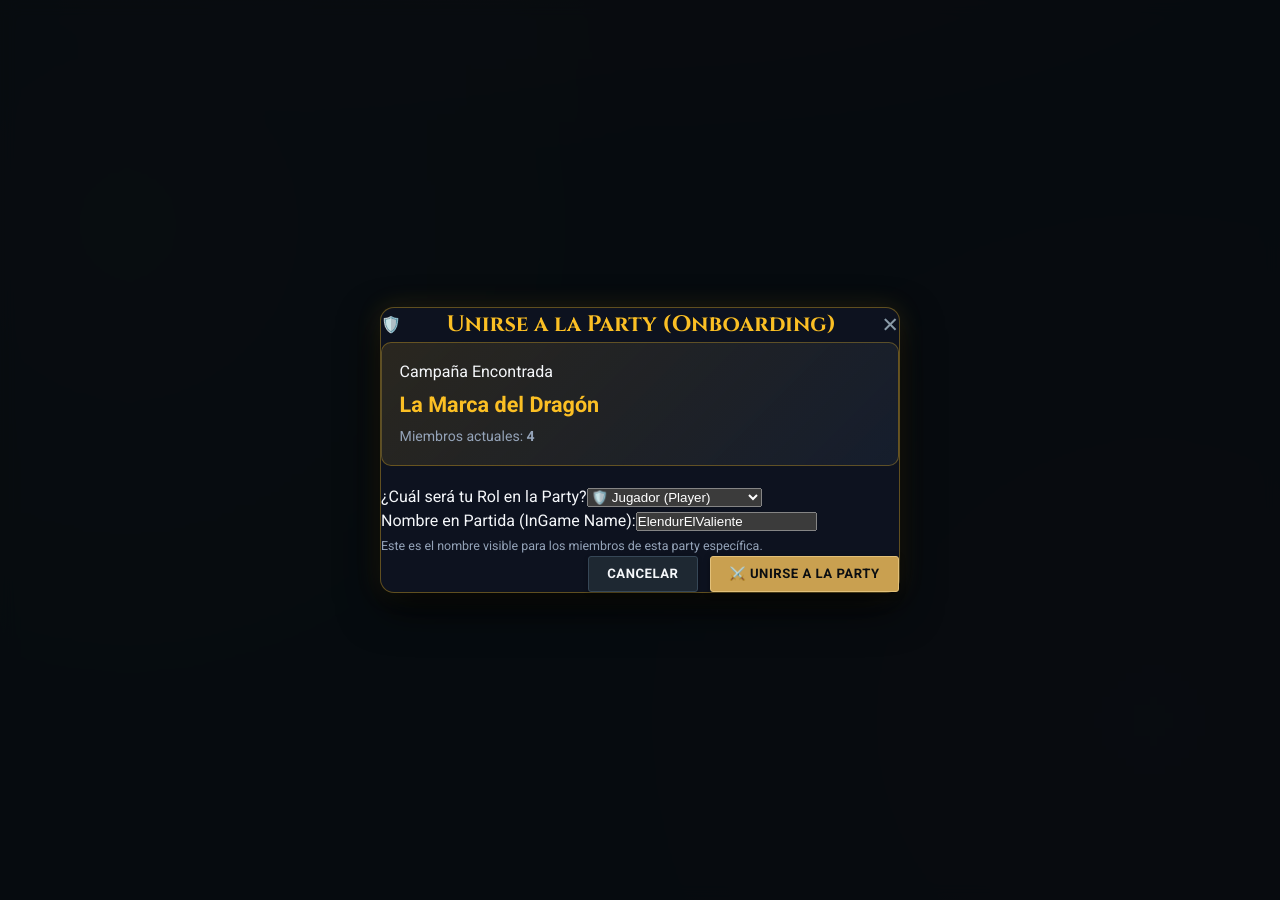
Test case: PartyOnboardingModal Component Suite › fetches party preview and submits onboarding with chosen Role and InGameName
The image size is (1280, 900).
expect the heading "La Marca del Dragón" is shown: met, box top-left (400, 392), bottom-right (599, 417)
expect the text "4" is shown: met, box top-left (527, 428), bottom-right (535, 444)
# Cambiar nombre de personaje
Replace the text in the field with id "onboarding-ingame-name" with "Elendur (Explorador)" at (726, 522), box top-left (636, 512), bottom-right (817, 531)
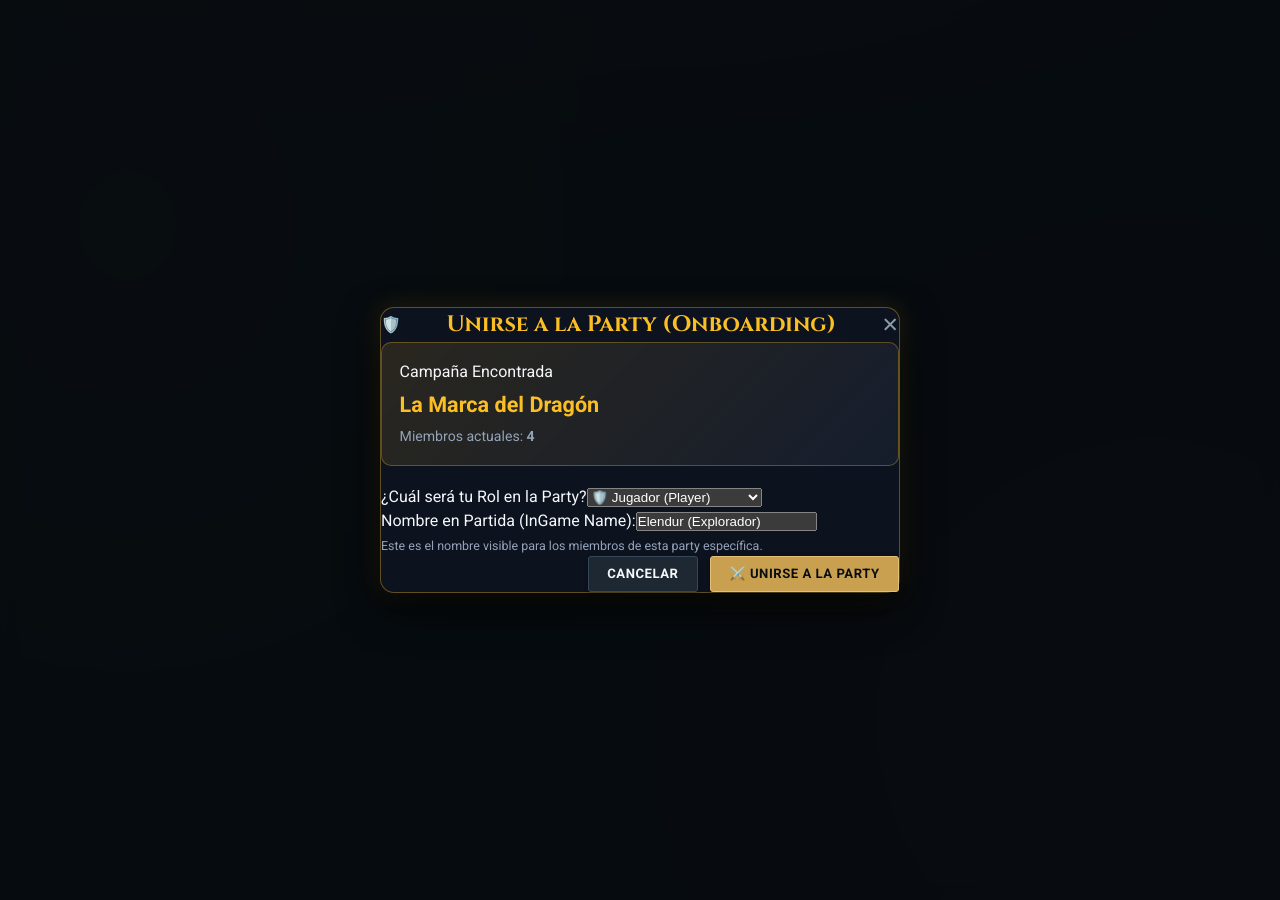
# Hacer clic en Unirse
Click the button with id "confirm-join-party-btn" at (804, 574), box top-left (710, 556), bottom-right (899, 592)
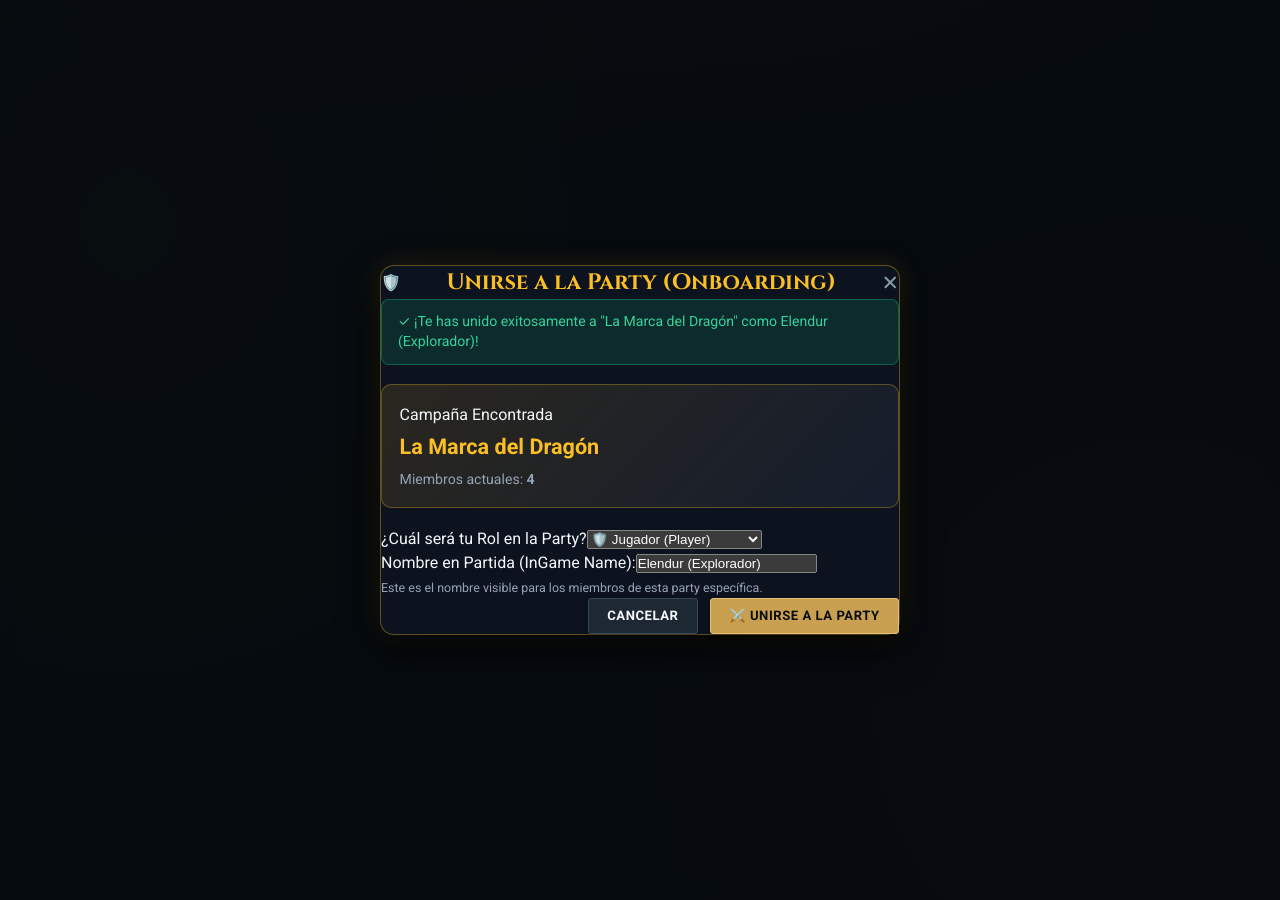
expect the text "¡Te has unido exitosamente" is shown: met, box top-left (398, 313), bottom-right (828, 349)
